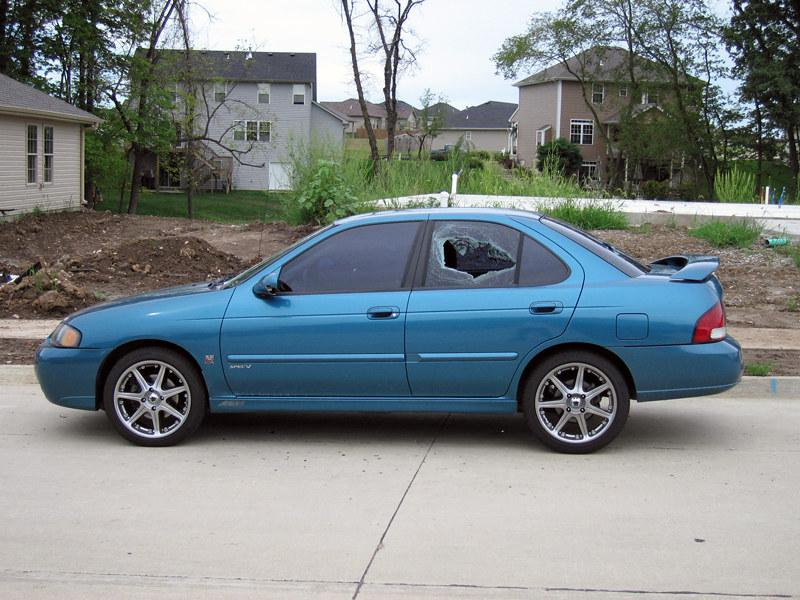RunningBoard-Dent: (201, 393, 522, 419)
doorouter-dent: (421, 215, 552, 388), (217, 298, 381, 401)
